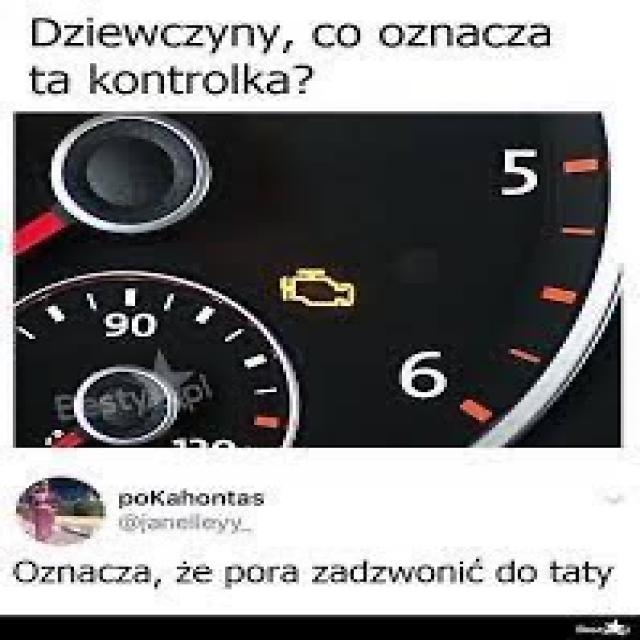kontrolka: (272, 262, 360, 314)
